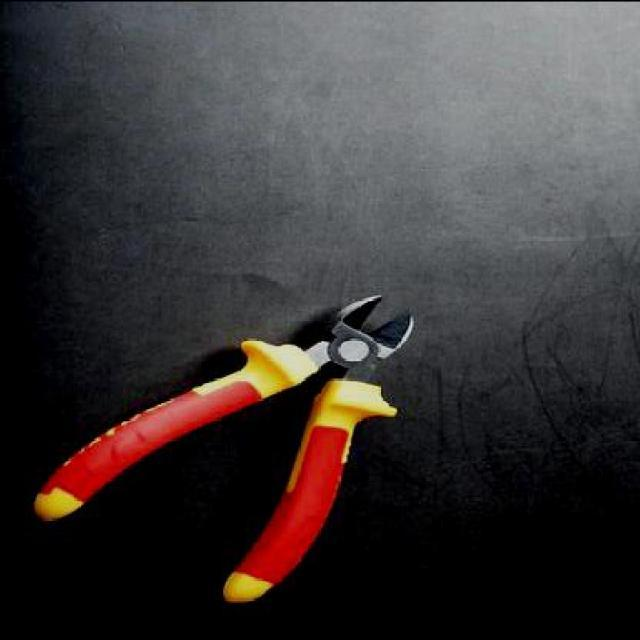pliers: (33, 291, 418, 611)
